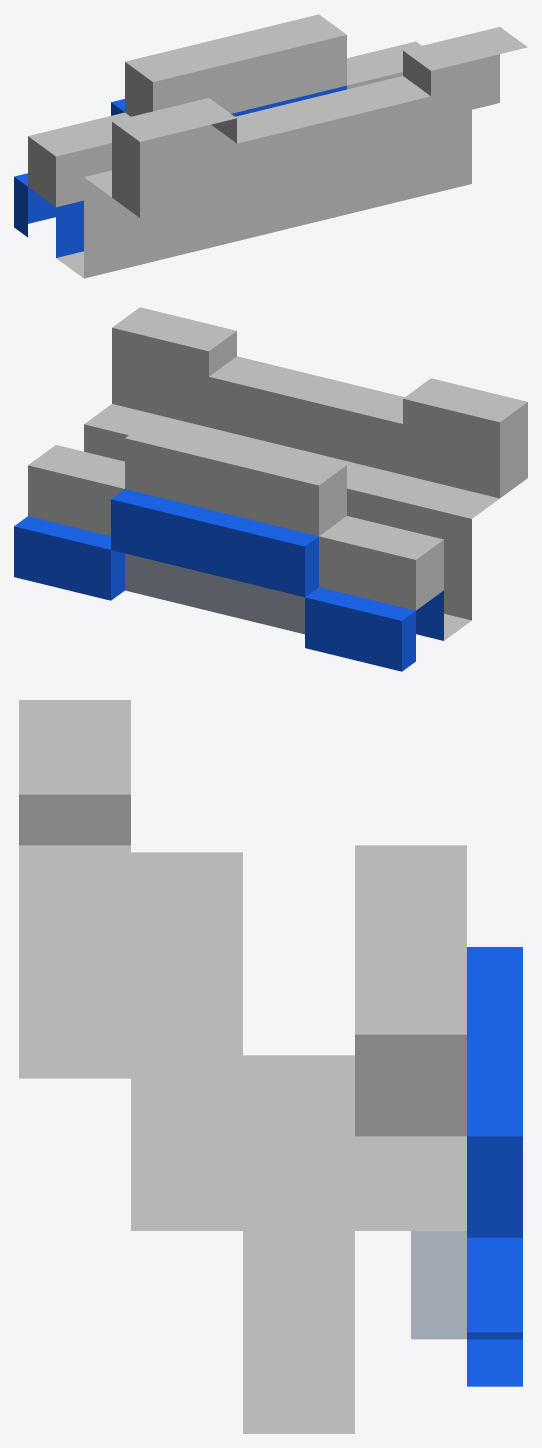
Rendered from cell_15.obj.
3 views of the same model, one above another, from view 1: azimuth 30°, elevation 25°; view 2: azimuth 150°, elevation 25°; view 3: azimuth 270°, elevation 25° (orthographic). The views are drawn at different scales.
Size of the model in its own units: 1 by 0.4375 by 0.5625.
